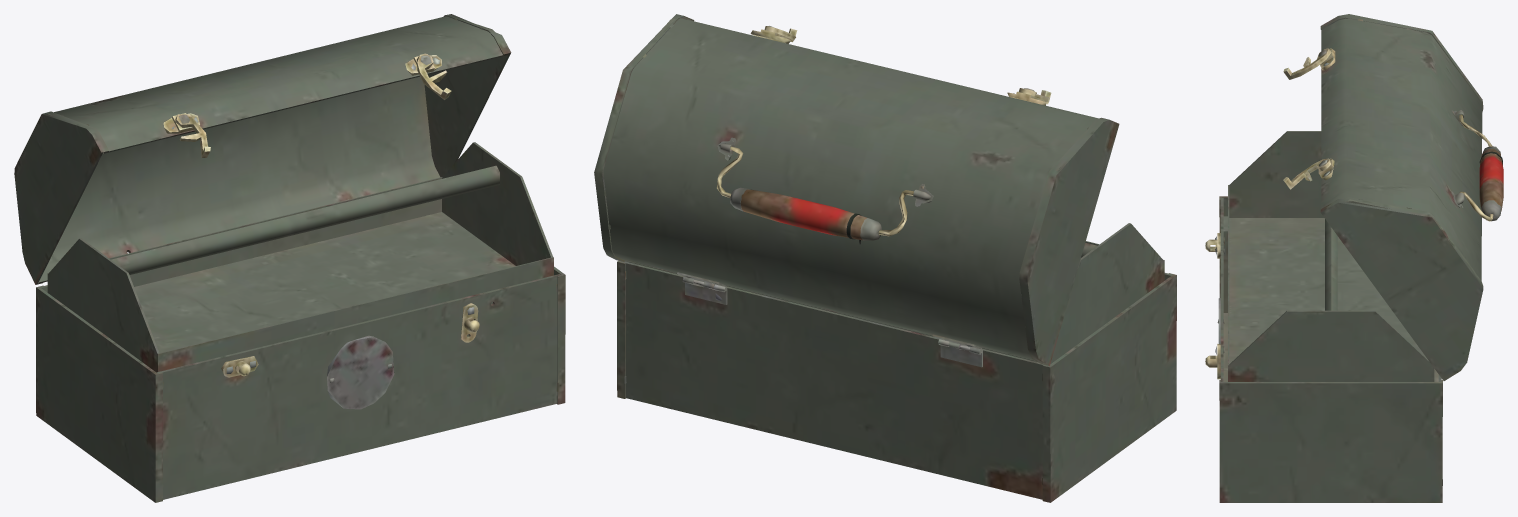
The model's file is toolbox.glb.
The picture shows the model from 3 angles, left to right: view 1: azimuth 30°, elevation 25°; view 2: azimuth 150°, elevation 25°; view 3: azimuth 270°, elevation 25°; orthographic projection. The views are drawn at different scales.
Parts seen in each view (by area): view 1: metal_toolbox; view 2: metal_toolbox; view 3: metal_toolbox.
Part boxes in pixels (x1,y1,x2,y2): metal_toolbox: [14, 14, 565, 502]; metal_toolbox: [594, 14, 1176, 502]; metal_toolbox: [1205, 14, 1503, 502].
Size of the model in its own units: 0.4 by 0.3044 by 0.2698.
1 material, 1 textured.
